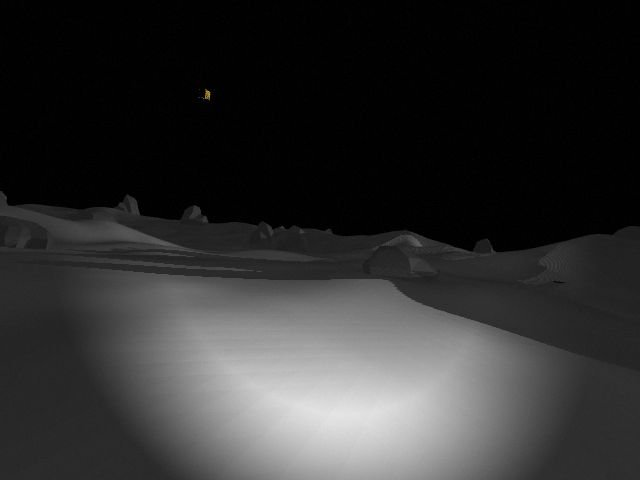cubesat: (195, 88, 212, 101)
